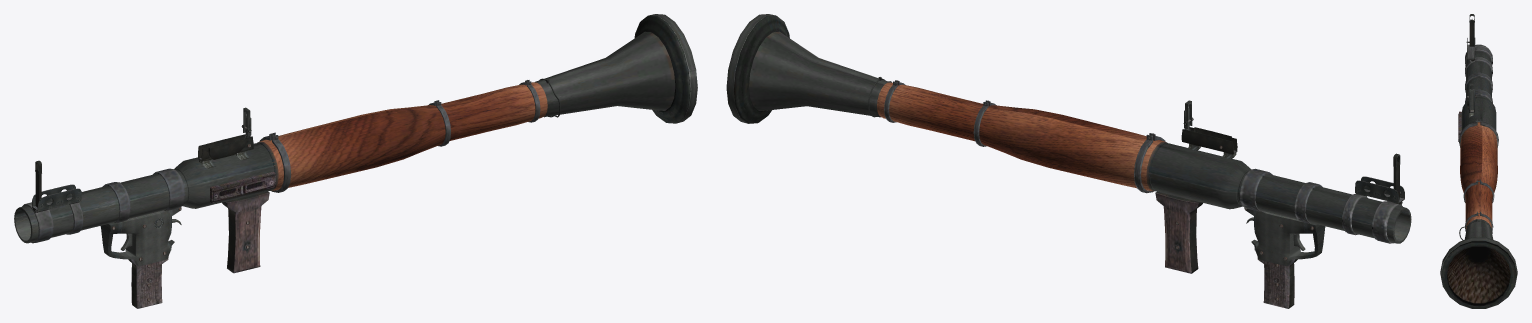
The model's file is RPG7chassis.fbx.
3 renders of one model, left to right at view 1: azimuth 30°, elevation 25°; view 2: azimuth 150°, elevation 25°; view 3: azimuth 270°, elevation 25°, orthographic. The views are drawn at different scales.
Parts seen in each view (by area): view 1: Rpg 7 (3dislands.blogspot.com) TDG Soft Sri lanka; view 2: Rpg 7 (3dislands.blogspot.com) TDG Soft Sri lanka; view 3: Rpg 7 (3dislands.blogspot.com) TDG Soft Sri lanka.
Boxes of the visible parts, bbox=[...] form: Rpg 7 (3dislands.blogspot.com) TDG Soft Sri lanka: bbox=[14, 14, 697, 308]; Rpg 7 (3dislands.blogspot.com) TDG Soft Sri lanka: bbox=[726, 14, 1411, 308]; Rpg 7 (3dislands.blogspot.com) TDG Soft Sri lanka: bbox=[1440, 14, 1517, 308].
Size of the model in its own units: 3037 by 783 by 454.
